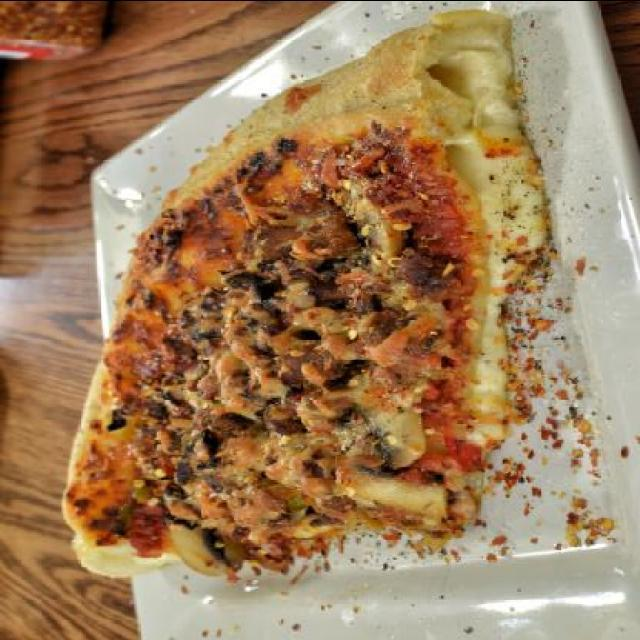Pizza: (101, 25, 553, 598)
